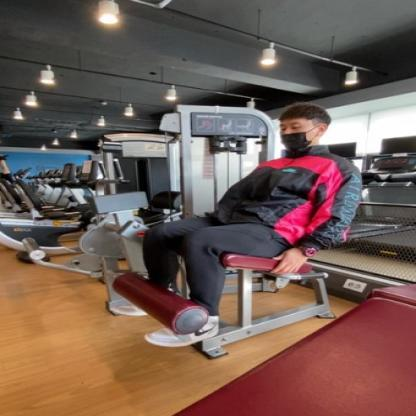leg extension: (76, 94, 368, 364)
